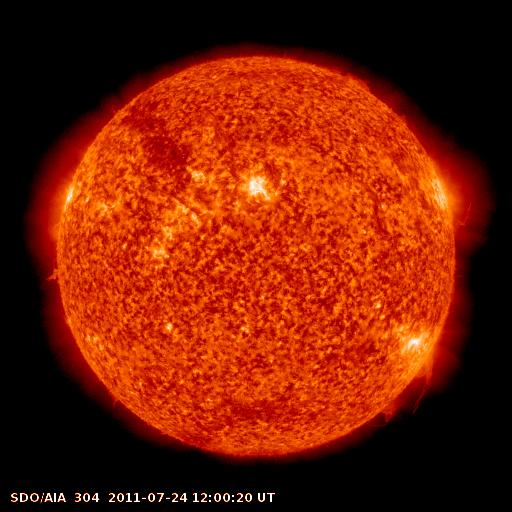prominence: (359, 350, 443, 426), (332, 63, 381, 96), (34, 258, 72, 293)
